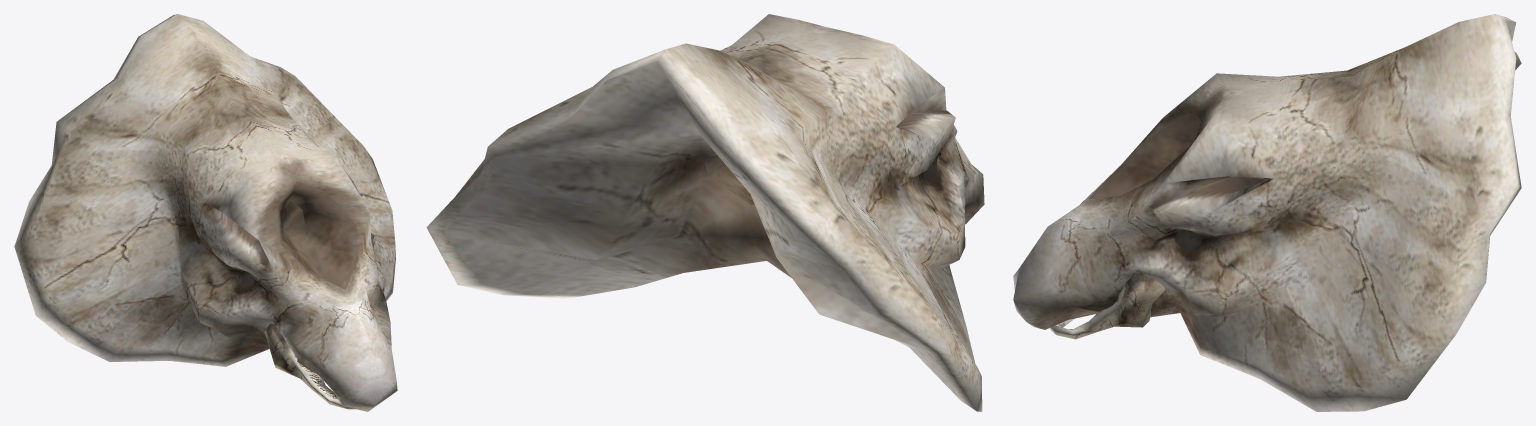
File: thm_dant_thune_skull_l0.fbx
3 renders of one model, left to right at view 1: azimuth 30°, elevation 25°; view 2: azimuth 150°, elevation 25°; view 3: azimuth 270°, elevation 25°, orthographic. The views are drawn at different scales.
Visible parts, largest first — view 1: mesh_node; view 2: mesh_node; view 3: mesh_node.
Part boxes in pixels (x1=…): mesh_node: x1=14, y1=14, x2=397, y2=411; mesh_node: x1=426, y1=14, x2=984, y2=411; mesh_node: x1=1013, y1=14, x2=1521, y2=411.
Bounding box in the file's own units: 1.91 × 1.33 × 1.94.
1 material, 1 textured.
